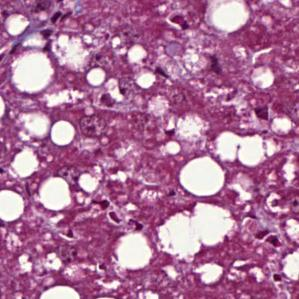ballooning: (154, 201, 240, 266), (9, 46, 57, 96)
